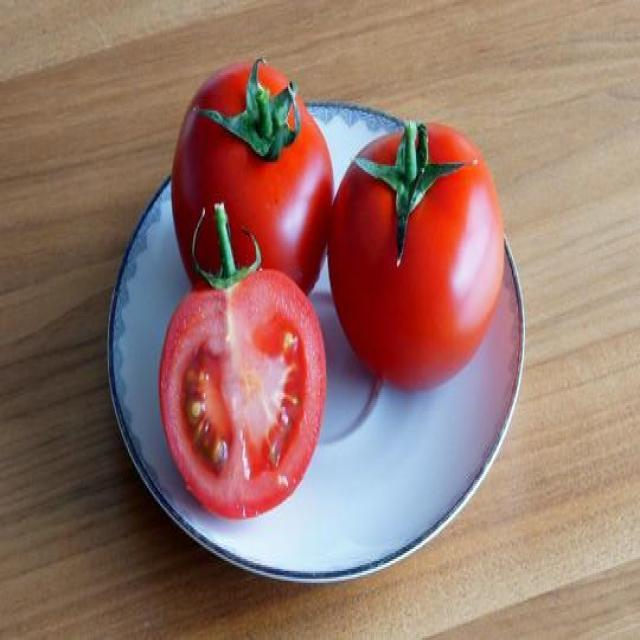kirmizi: (152, 68, 506, 380)
